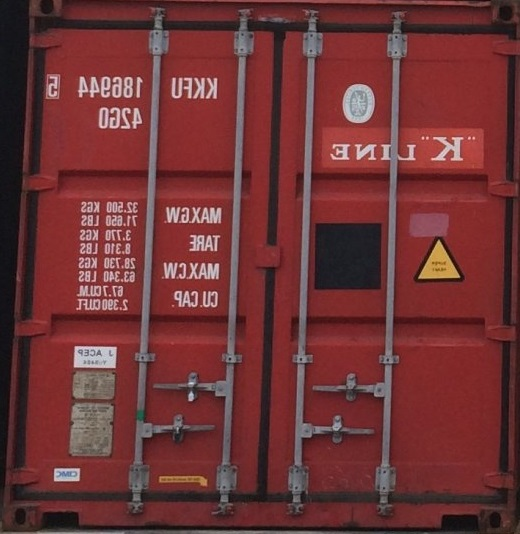container_door: (5, 5, 486, 525)
